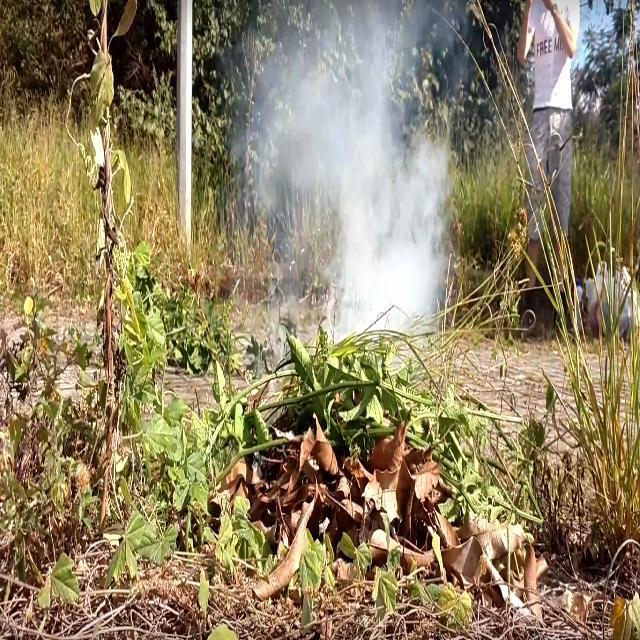Smoke: (244, 0, 457, 333)
